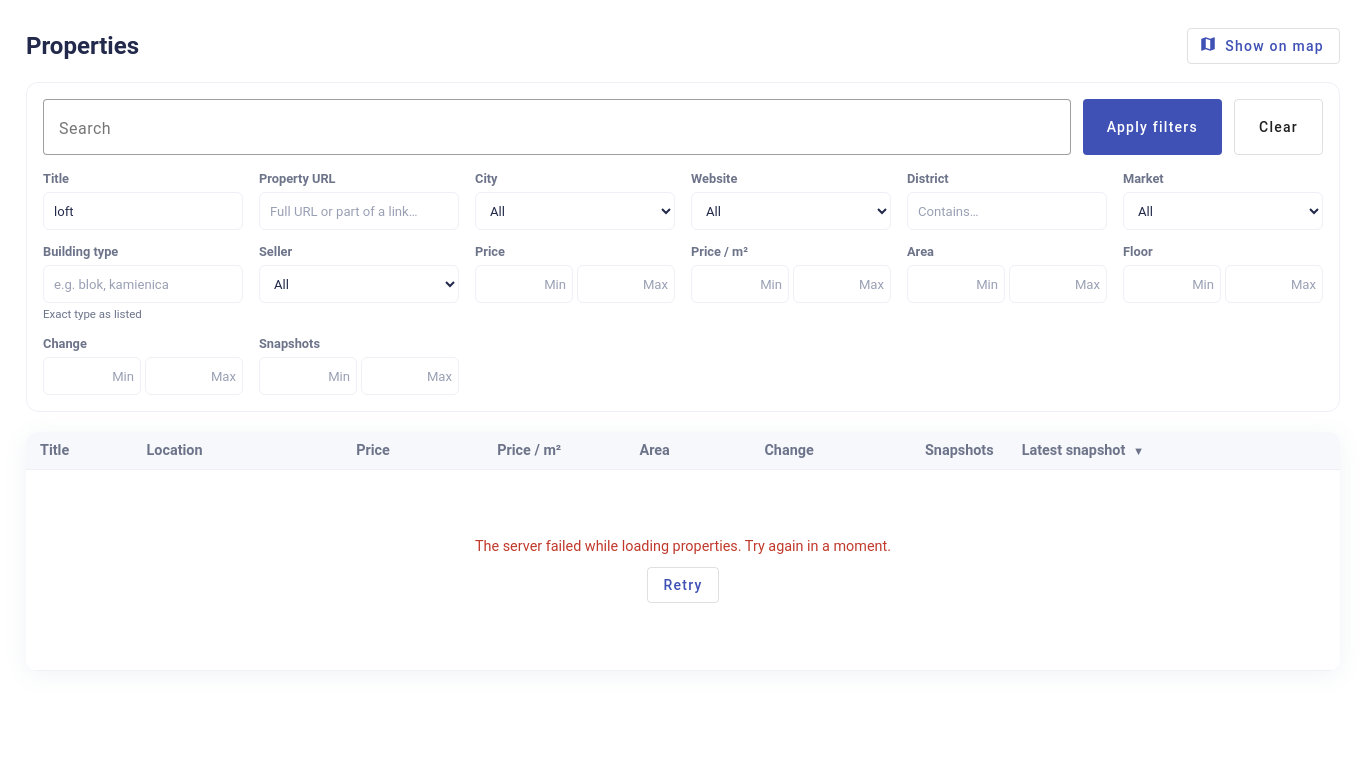
it: PropertiesListComponent › shows a failure as an error, and retry re-sends the same query
Click the button "Retry". click: (683, 584)
box: [648,566,718,602]
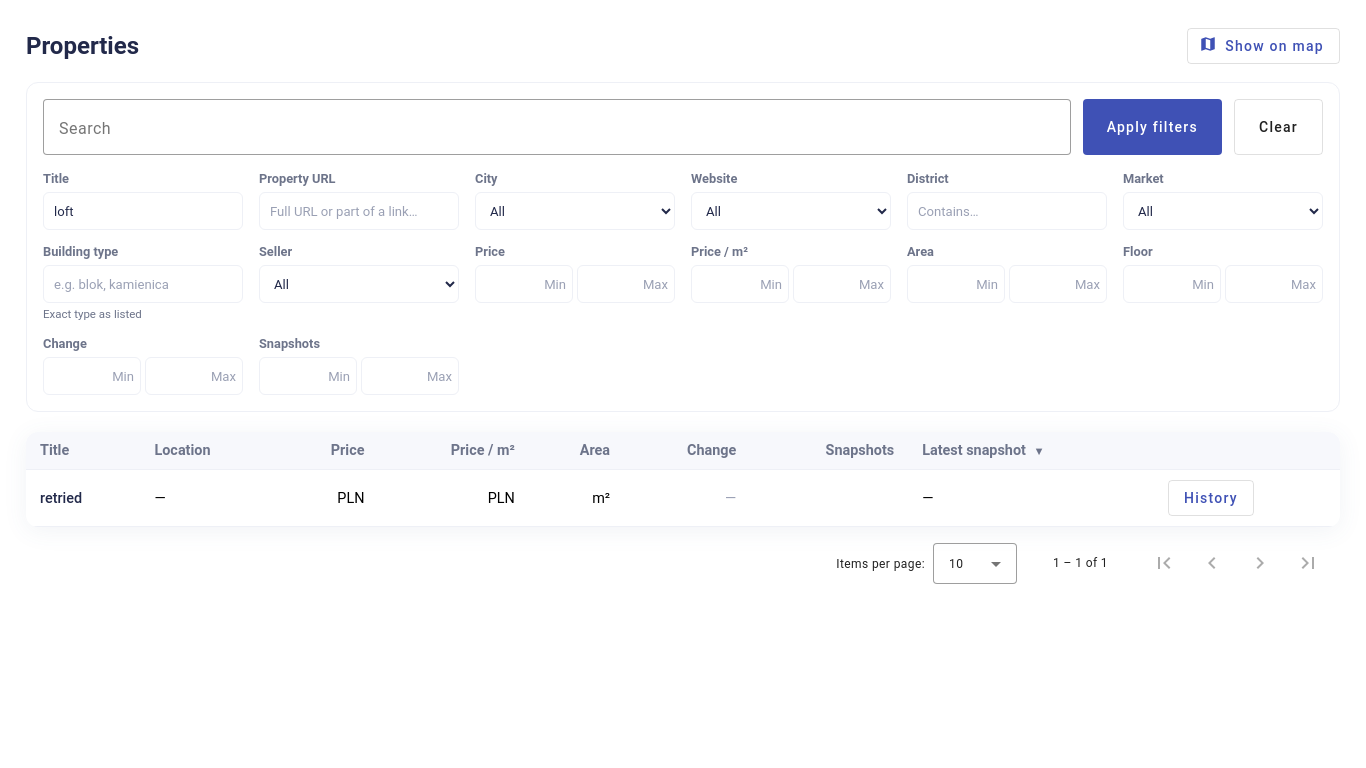
Check: the message with class "error" is gone
